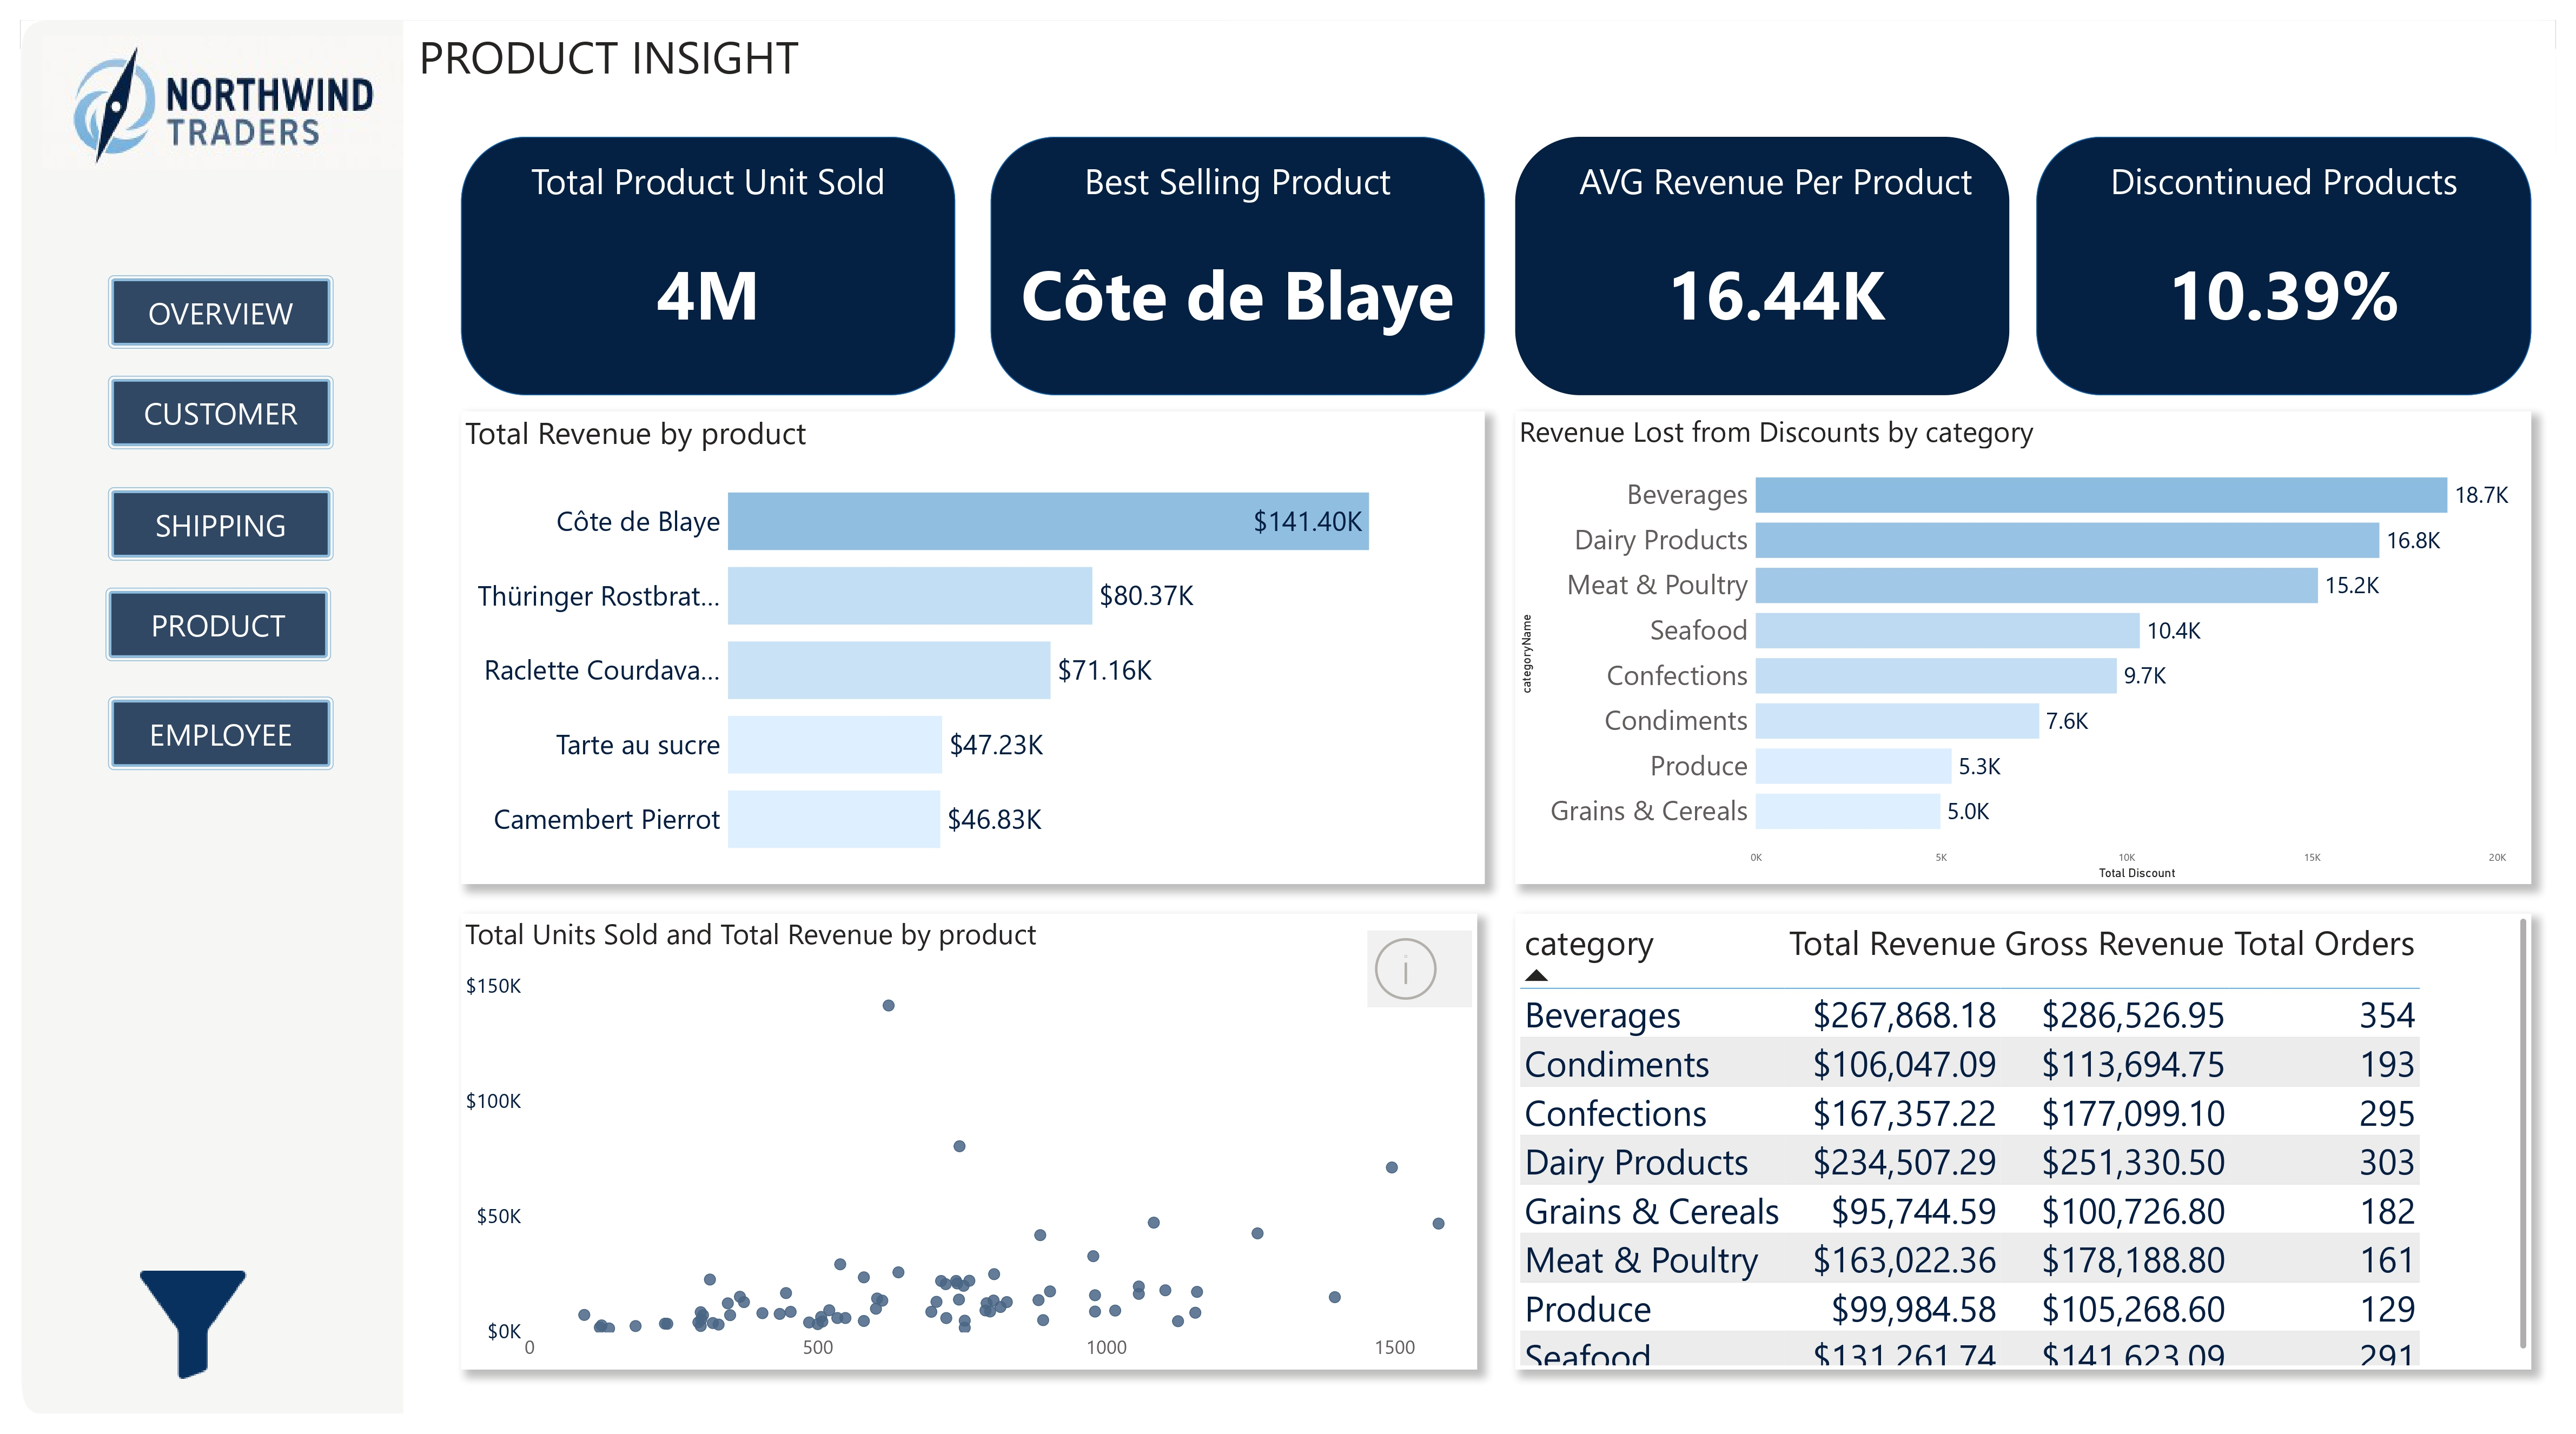

What the dashboard file says about the page in this screenshot:
{"tool":"powerbi","page":{"name":"Product Insight","canvas":[3000,1650],"ordinal":12},"visuals":[{"type":"shape","box":[521,138.3,585.3,305.5],"z":0},{"type":"scatterChart","title":"Total Units Sold and Total Revenue by product","fields":{"Y":["Revenue.Total Revenue"],"Category":["products.productName"],"X":["Total Quantity.Total Units Sold"]},"box":[521,1058.1,1202.8,540.3],"z":0,"group":"g1"},{"type":"image","box":[106.9,1475.4,196.2,138.3],"z":0,"group":"g2"},{"type":"shape","box":[1148.2,138.3,585.3,305.5],"z":1000},{"type":"actionButton","box":[1594.1,1077.6,123.7,91.8],"z":1000,"group":"g1"},{"type":"shape","box":[1768.9,138.3,585.3,305.5],"z":2000},{"type":"shape","box":[2386.4,138.3,585.3,305.5],"z":3000},{"type":"textbox","box":[466.3,0,868.4,106.1],"z":4000},{"type":"card","title":"Best Selling Product","fields":{"Values":["_Product.Top Product"]},"box":[1148.2,160.8,585.3,260.5],"z":5000},{"type":"card","title":"AVG Revenue Per Product","fields":{"Values":["_Product.Average Revenue per Product"]},"box":[1768.9,160.8,617.5,260.5],"z":6000},{"type":"card","title":"Total Product Unit Sold","fields":{"Values":["_Product.Total Items Sold"]},"box":[521,160.8,585.3,260.5],"z":7000},{"type":"card","title":"Discontinued Products","fields":{"Values":["products.Discontinued Products %"]},"box":[2386.4,160.8,585.3,260.5],"z":8000},{"type":"tableEx","fields":{"Values":["categories.categoryName","Revenue.Total Revenue","Revenue.Gross Revenue","TotalOrders.Total Orders"]},"box":[1768.9,1058.1,1202.8,540.3],"z":9000},{"type":"barChart","title":"Total Revenue by product","fields":{"Category":["products.productName"],"Y":["Revenue.Total Revenue"]},"box":[521,463.1,1212.5,559.6],"z":10000},{"type":"barChart","title":"Revenue Lost from Discounts by category","fields":{"Category":["categories.categoryName"],"Y":["Revenue.Total Discount"]},"box":[1768.9,463.1,1202.8,559.6],"z":11000},{"type":"group","id":"g1","title":"Product drill through","box":[521,1058.1,1202.8,540.3],"z":12000},{"type":"actionButton","box":[102.9,302.3,266.9,86.8],"z":14000},{"type":"actionButton","box":[102.9,421.3,266.9,86.8],"z":15000},{"type":"actionButton","box":[102.9,553.2,266.9,86.8],"z":16000},{"type":"actionButton","box":[99.7,672.2,266.9,86.8],"z":17000},{"type":"actionButton","box":[102.9,800.8,266.9,86.8],"z":18000},{"type":"group","id":"g2","title":"Product Filter","box":[12,889.6,941.5,726.1],"z":19000}]}

Visuals, with their boxes on the page's 3000x1650 design canvas (x1, y1, x2, y2). These are canvas units, not pixel positions in the 2576x1434 screenshot, which may show the page scaled, cropped or inside an application window:
shape: left=521, top=138, right=1106, bottom=444
"Total Units Sold and Total Revenue by product" scatterChart: left=521, top=1058, right=1724, bottom=1598
image: left=107, top=1475, right=303, bottom=1614
shape: left=1148, top=138, right=1734, bottom=444
actionButton: left=1594, top=1078, right=1718, bottom=1169
shape: left=1769, top=138, right=2354, bottom=444
shape: left=2386, top=138, right=2972, bottom=444
textbox: left=466, top=0, right=1335, bottom=106
"Best Selling Product" card: left=1148, top=161, right=1734, bottom=421
"AVG Revenue Per Product" card: left=1769, top=161, right=2386, bottom=421
"Total Product Unit Sold" card: left=521, top=161, right=1106, bottom=421
"Discontinued Products" card: left=2386, top=161, right=2972, bottom=421
tableEx - categories.categoryName x Revenue.Total Revenue: left=1769, top=1058, right=2972, bottom=1598
"Total Revenue by product" barChart: left=521, top=463, right=1734, bottom=1023
"Revenue Lost from Discounts by category" barChart: left=1769, top=463, right=2972, bottom=1023
"Product drill through" group: left=521, top=1058, right=1724, bottom=1598
actionButton: left=103, top=302, right=370, bottom=389
actionButton: left=103, top=421, right=370, bottom=508
actionButton: left=103, top=553, right=370, bottom=640
actionButton: left=100, top=672, right=367, bottom=759
actionButton: left=103, top=801, right=370, bottom=888
"Product Filter" group: left=12, top=890, right=954, bottom=1616
